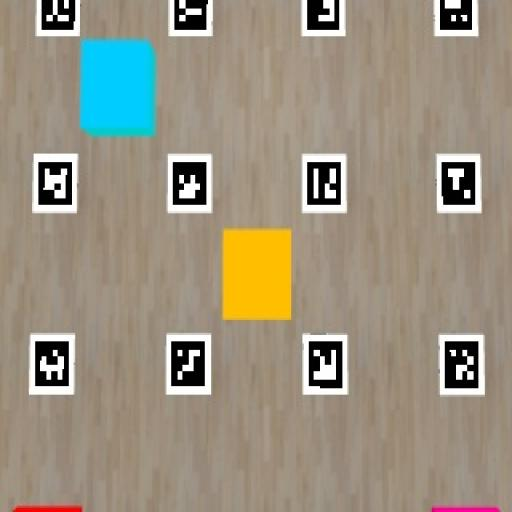car: (80, 39, 156, 136), (431, 506, 500, 511)
fire: (223, 229, 291, 319), (13, 504, 83, 511)
